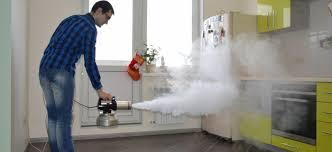smoke: (124, 38, 318, 122)
